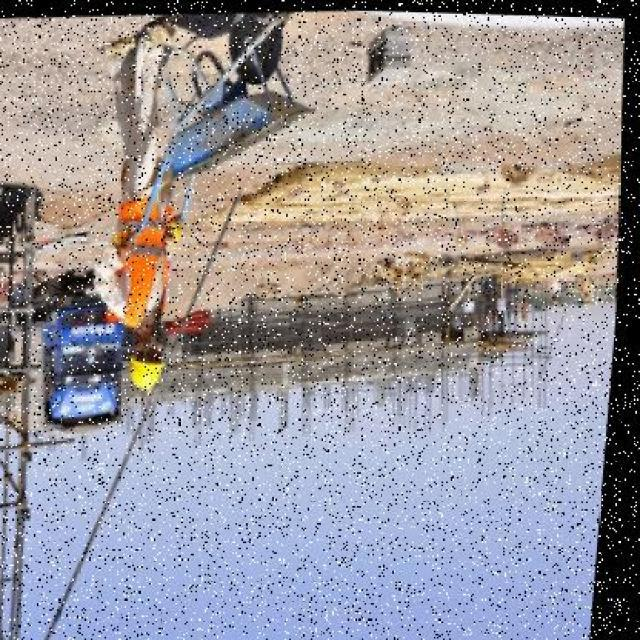helmet: (125, 348, 174, 397)
vest: (102, 194, 176, 328)
